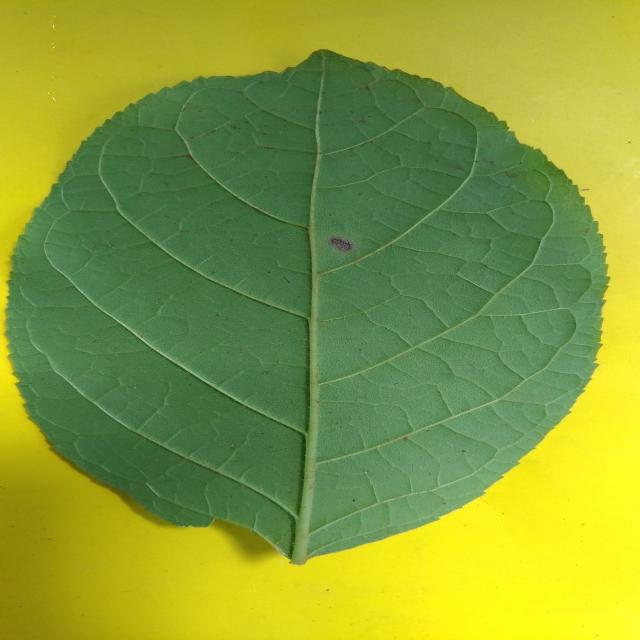padri: (9, 51, 607, 564)
